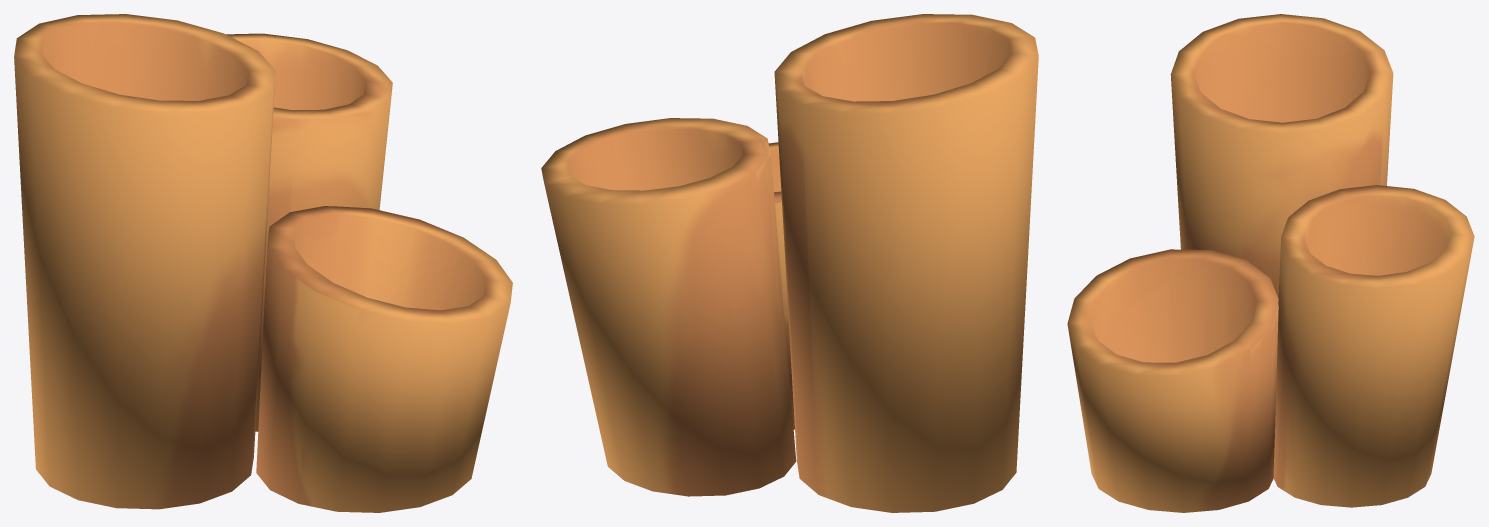
The model's file is coral01.glb.
The picture shows the model from 3 angles, left to right: view 1: azimuth 30°, elevation 25°; view 2: azimuth 150°, elevation 25°; view 3: azimuth 270°, elevation 25°; orthographic projection. The views are drawn at different scales.
Visible parts, largest first — view 1: Coral01; view 2: Coral01; view 3: Coral01.
Part boxes in pixels (x1,y1,x2,y2): Coral01: (14, 14, 512, 512); Coral01: (541, 14, 1038, 512); Coral01: (1067, 14, 1474, 512).
Size of the model in its own units: 4.25 by 4.18 by 4.42.
Materials: 1 (1 with a texture image).
